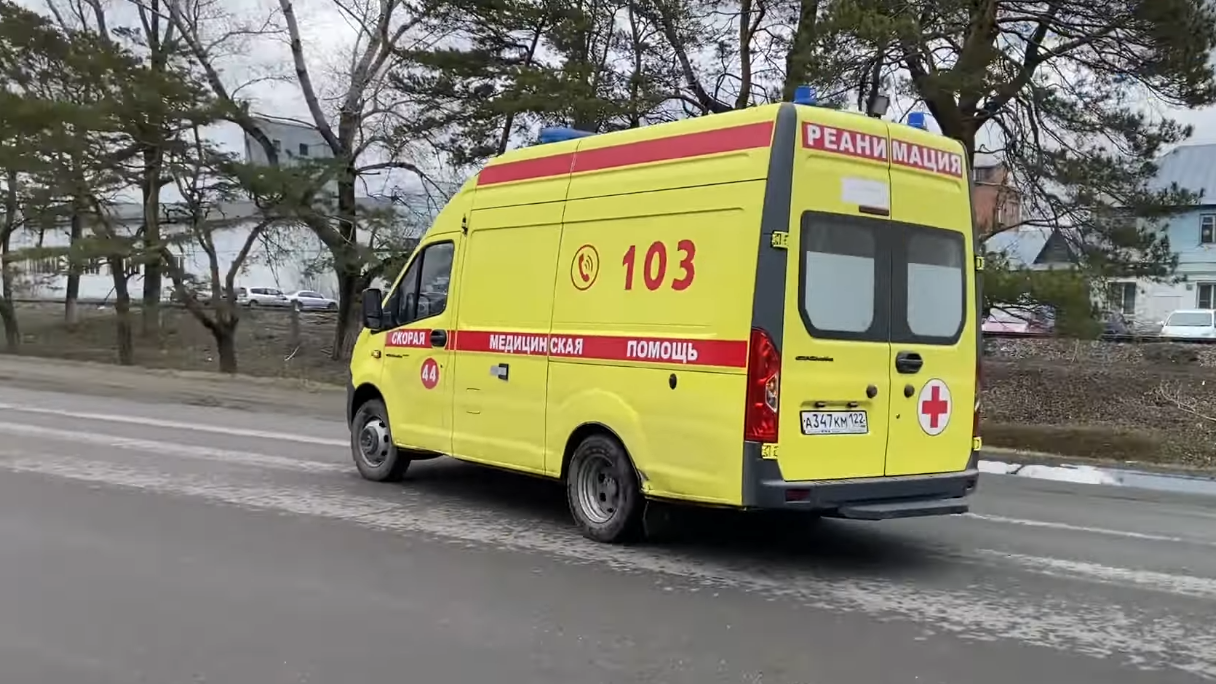intensive care unit: (346, 86, 982, 544)
